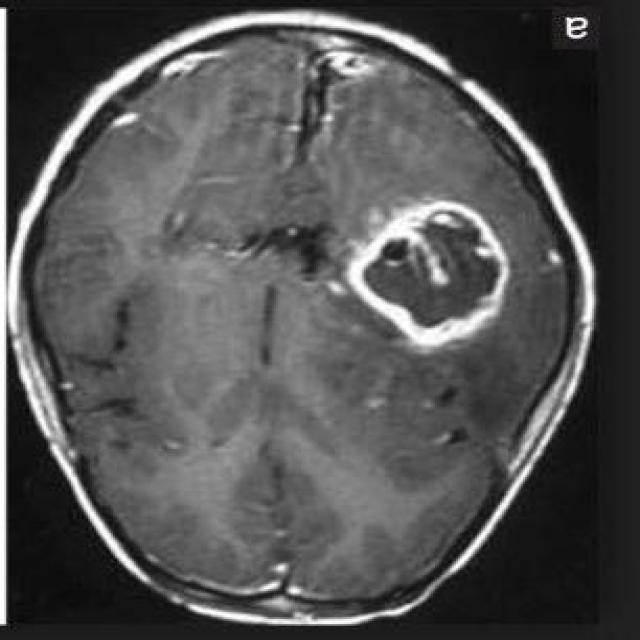Tumor: (342, 195, 510, 351)
